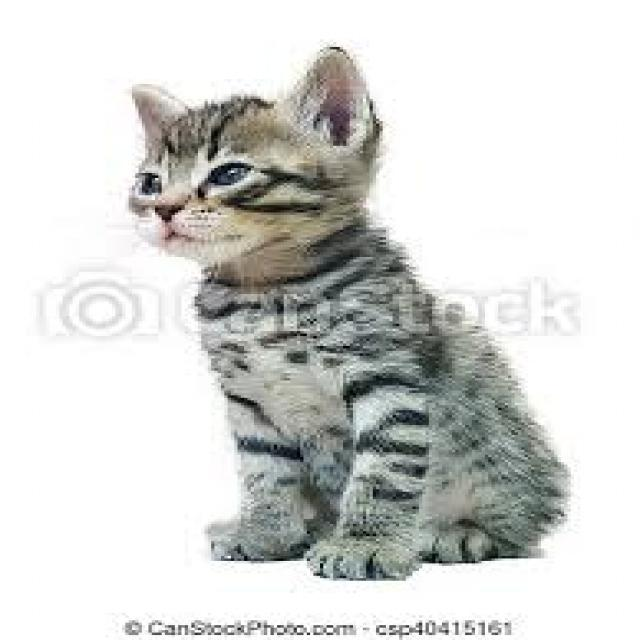Cat: (121, 42, 565, 586)
